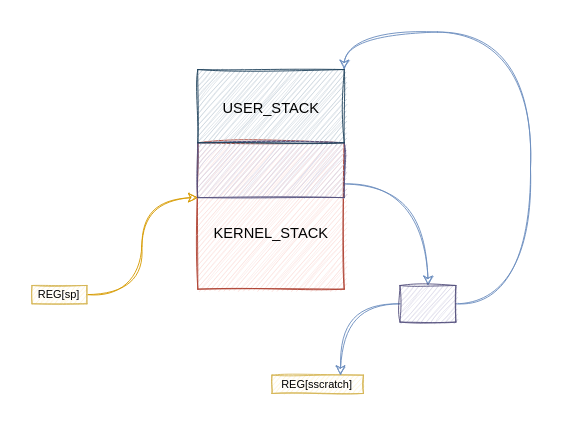
Some shapes in this 564 by 426 pixel diagram are drawn without their labels. The shapes that lost their labels are listed below. From the top down, each one's centre as x and y in pixels, then its label:
At pixel 270 169: "app_init_context".
At pixel 427 303: "x[2] (sp)".
